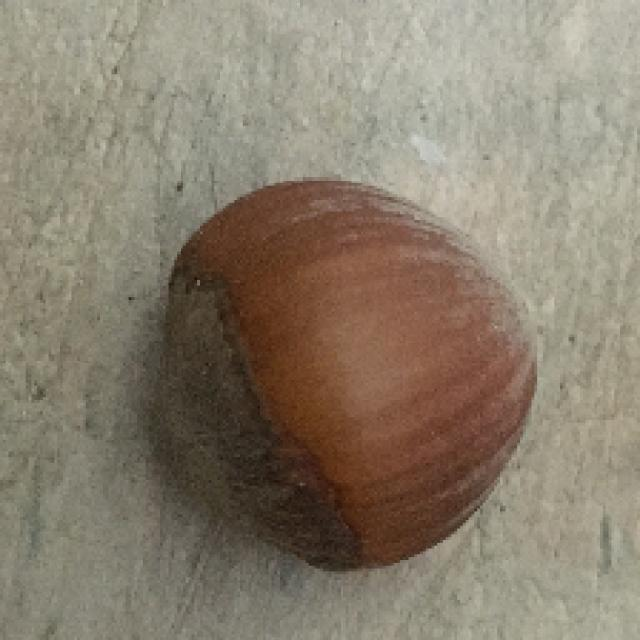qualityHazelnut: (141, 175, 544, 573)
